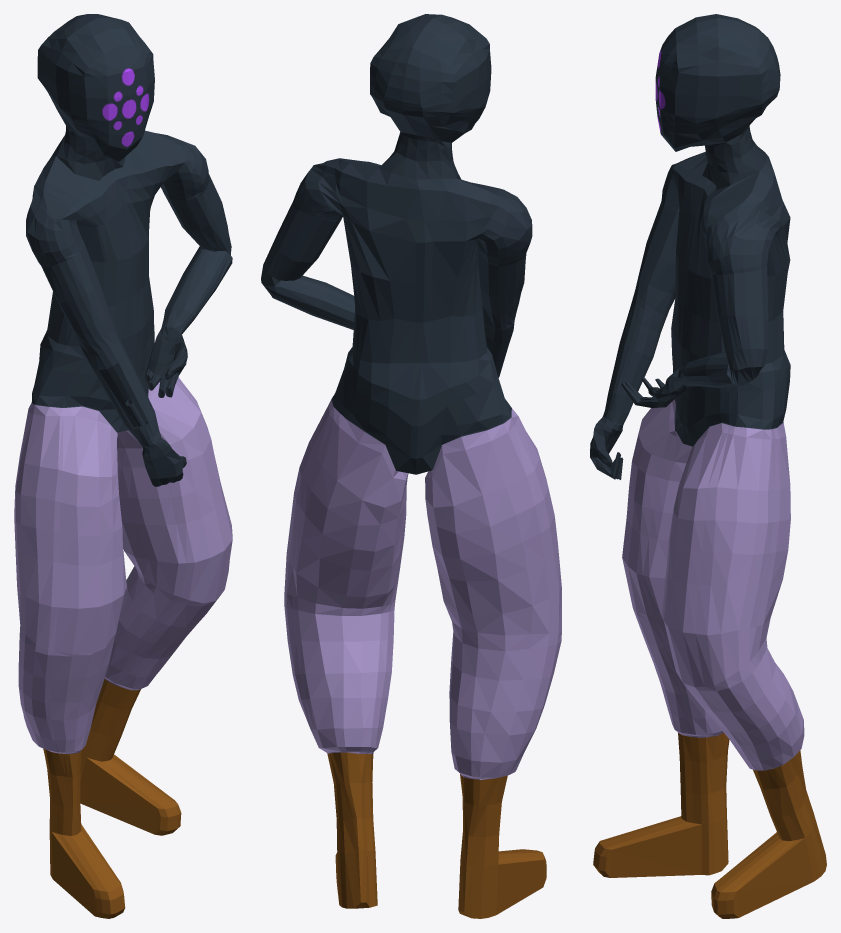
The model's file is Oracle_WR_000025.obj.
3 renders of one model, left to right at view 1: azimuth 30°, elevation 25°; view 2: azimuth 150°, elevation 25°; view 3: azimuth 270°, elevation 25°, orthographic. The views are drawn at different scales.
Visible parts, largest first — view 1: Cube; view 2: Cube; view 3: Cube.
Boxes of the visible parts, left/top/right/bottom form: Cube: left=14, top=14, right=232, bottom=918; Cube: left=261, top=14, right=561, bottom=918; Cube: left=590, top=14, right=826, bottom=918.
Bounding box in the file's own units: 1.17 × 3.93 × 0.9637.
